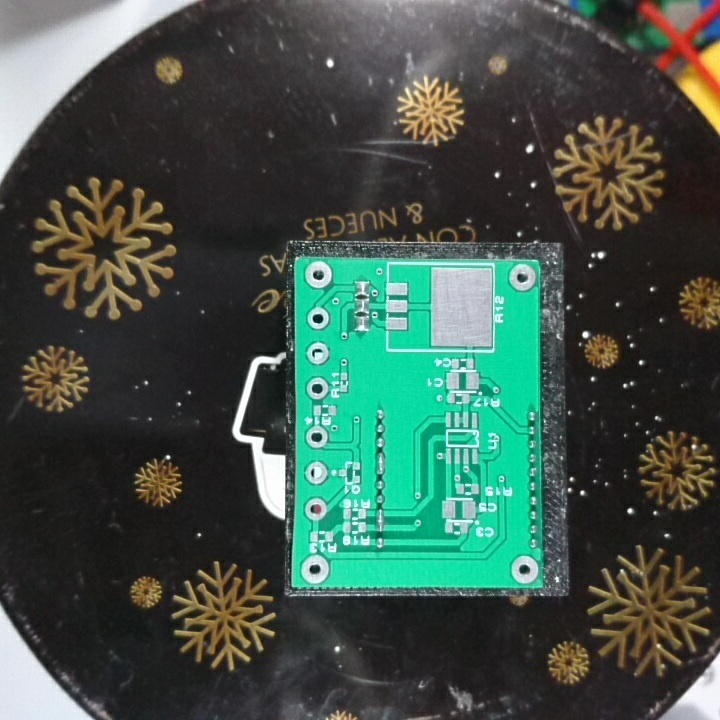F: (298, 553, 335, 588), (303, 259, 335, 291), (508, 554, 541, 585), (507, 263, 539, 293), (302, 459, 332, 489), (301, 423, 330, 451), (303, 495, 330, 524), (303, 305, 330, 333), (306, 340, 332, 368), (304, 376, 331, 401)
P: (371, 505, 392, 533), (373, 449, 389, 478)
